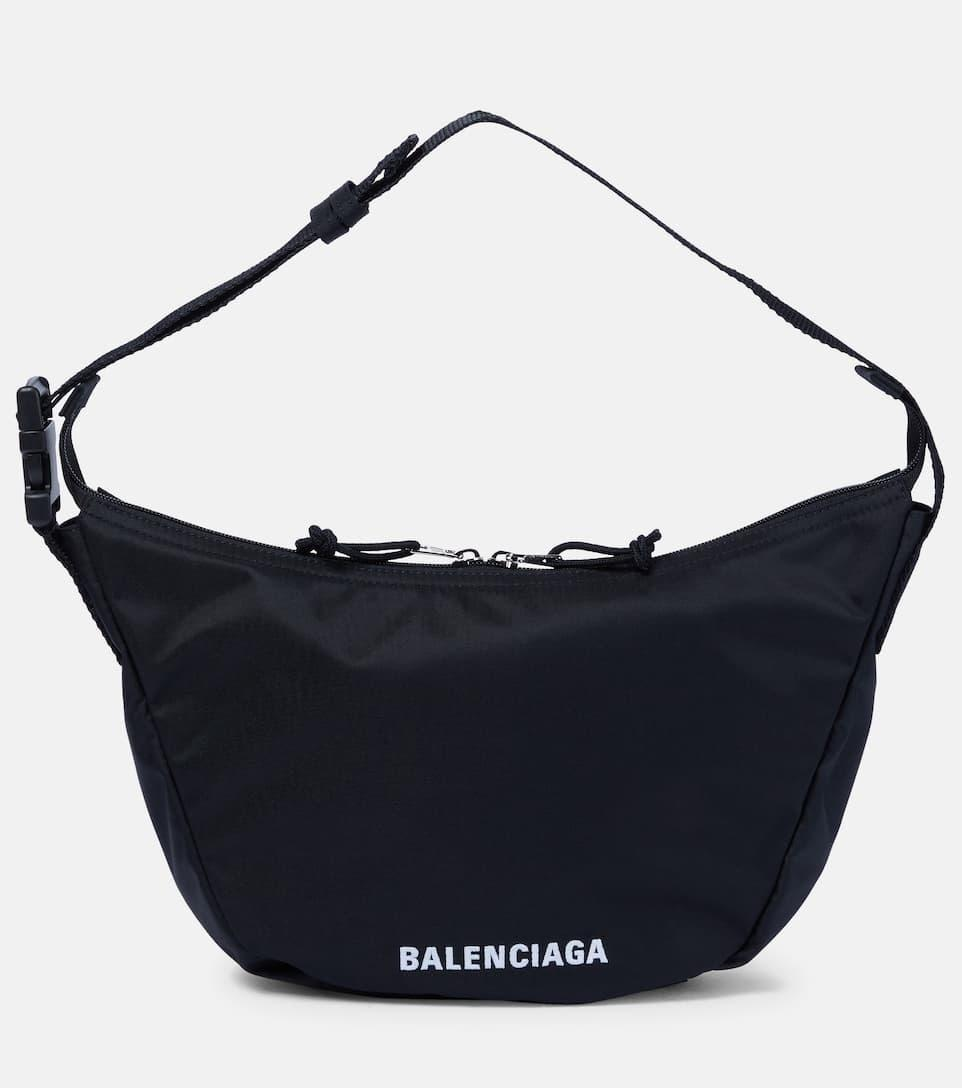BALENCIAGA: (399, 938, 609, 971)
